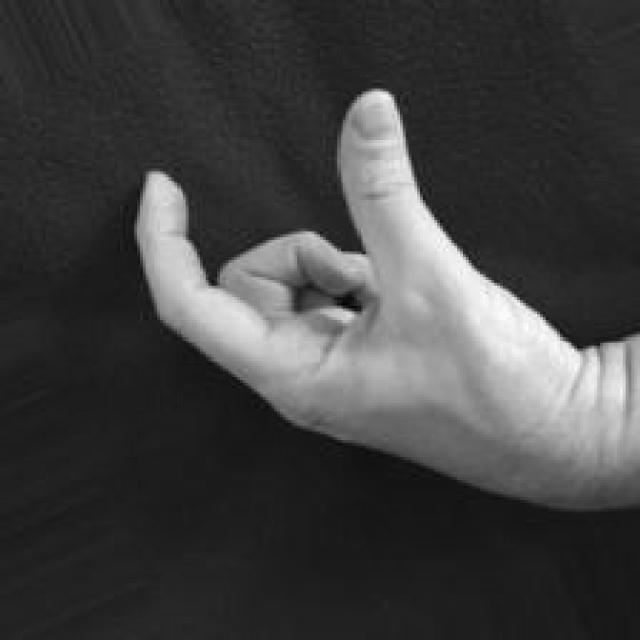U: (128, 80, 570, 510)
